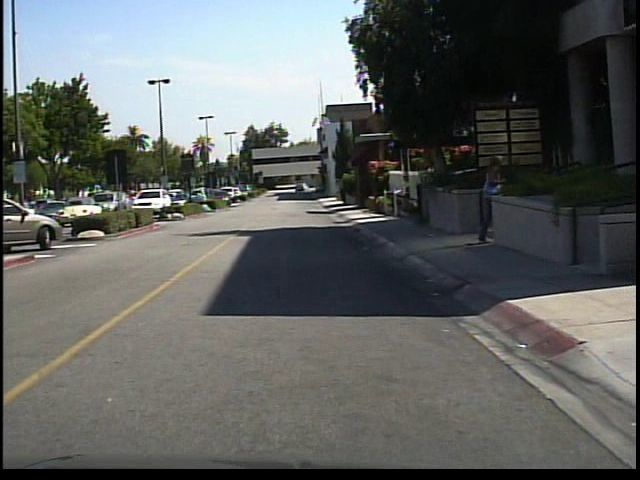person: (475, 147, 508, 250)
